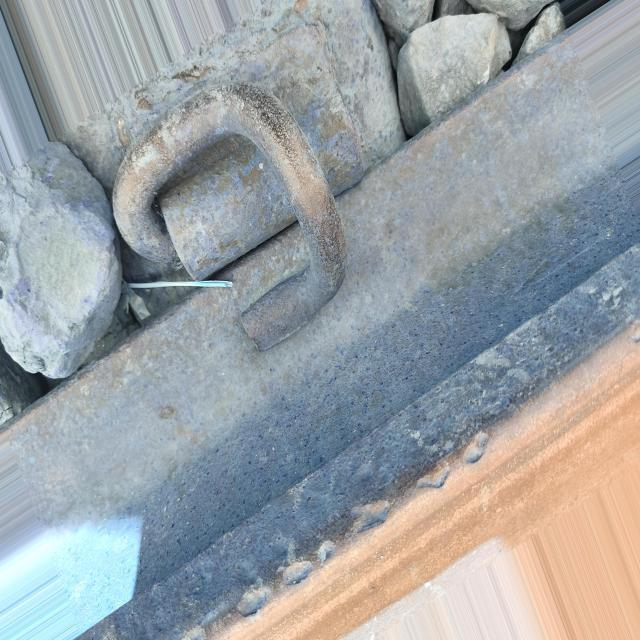Good Fasteners: (59, 0, 406, 339)
